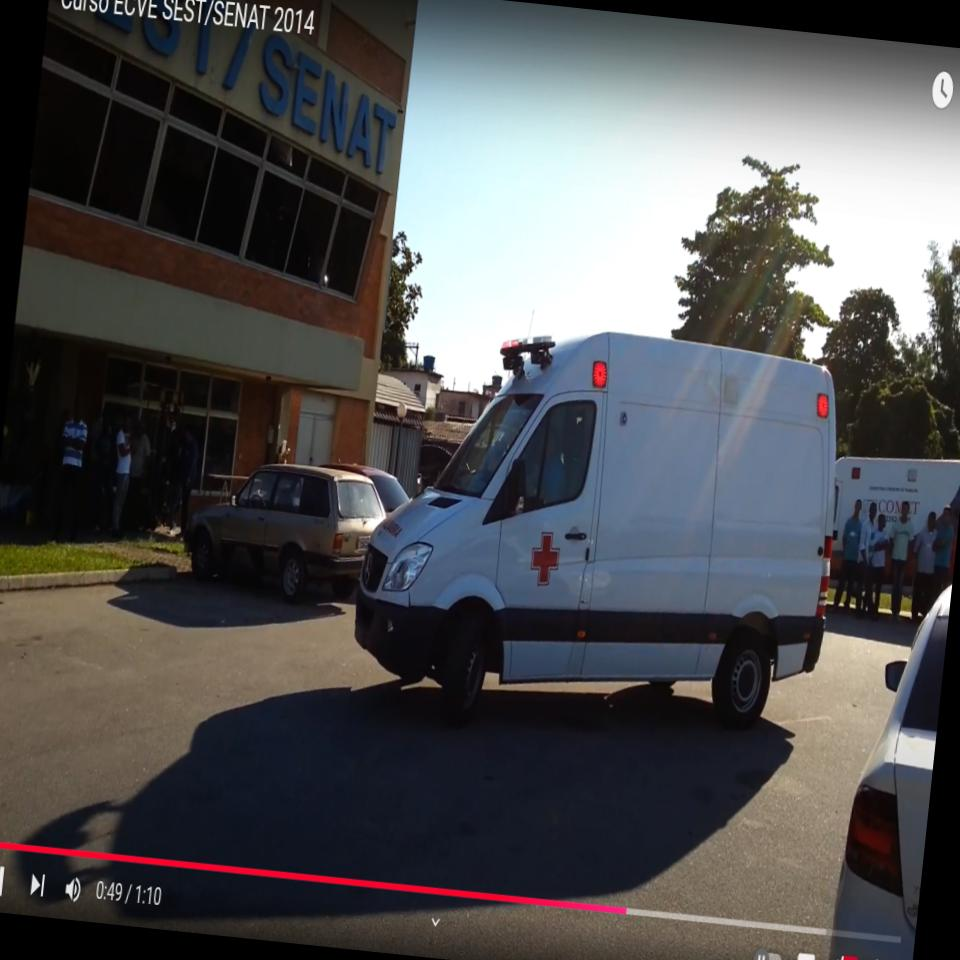bombeiro: (340, 308, 856, 760)
